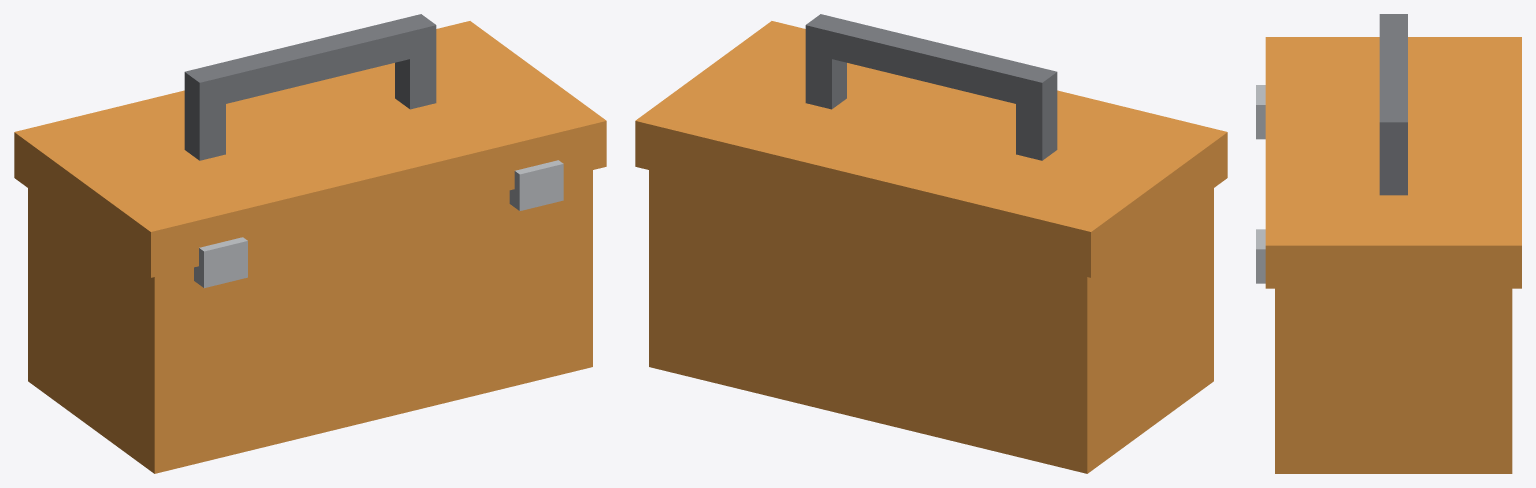
Rendered from SM_Toolbox.glb.
3 views of the same model, side by side, from view 1: azimuth 30°, elevation 25°; view 2: azimuth 150°, elevation 25°; view 3: azimuth 270°, elevation 25° (orthographic). The views are drawn at different scales.
Visible parts, largest first — view 1: SM_Toolbox; view 2: SM_Toolbox; view 3: SM_Toolbox.
Part boxes in pixels (x1,y1,x2,y2): SM_Toolbox: (14, 14, 606, 473); SM_Toolbox: (635, 14, 1227, 473); SM_Toolbox: (1256, 14, 1521, 473).
Bounding box in the file's own units: 0.52 × 0.355 × 0.28.
